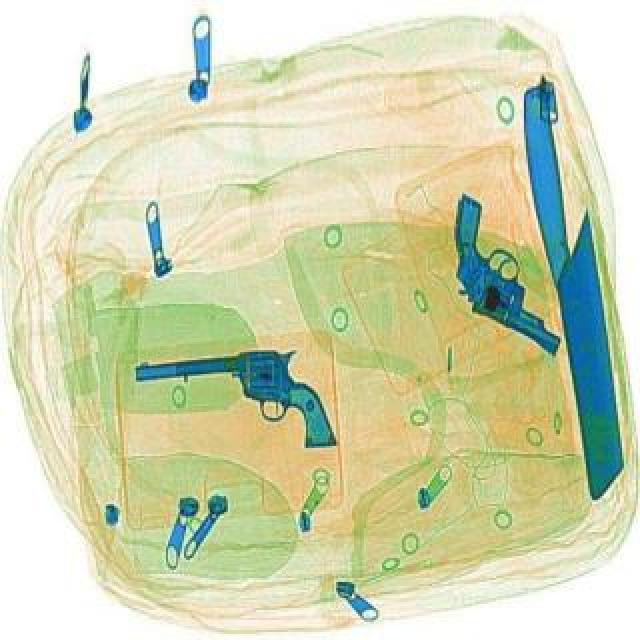gun: (404, 190, 608, 354), (132, 342, 336, 460)
knife: (516, 78, 628, 500)
